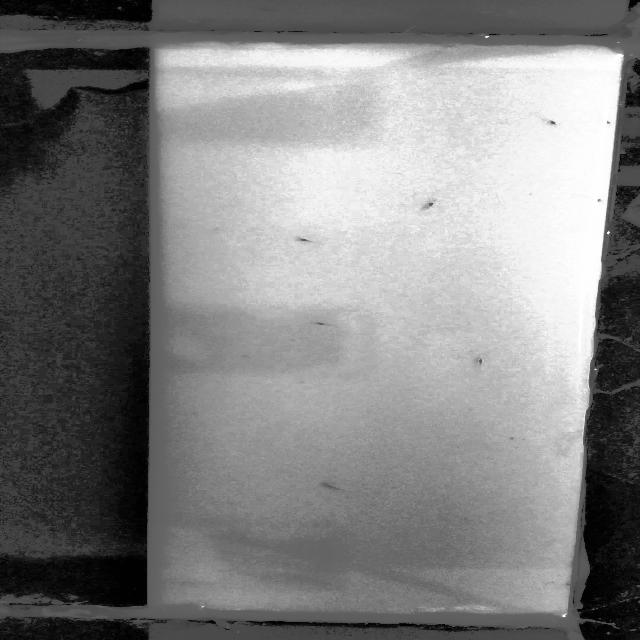shrimp: (318, 480, 348, 493), (473, 352, 490, 371), (416, 200, 442, 212), (537, 115, 560, 128), (308, 319, 336, 328), (590, 193, 606, 208), (594, 117, 612, 130), (293, 236, 318, 245)
